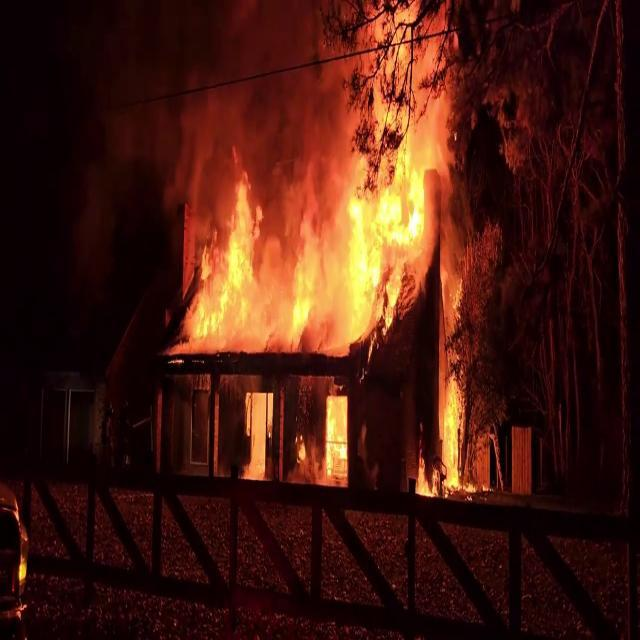Fire: (170, 70, 478, 390)
